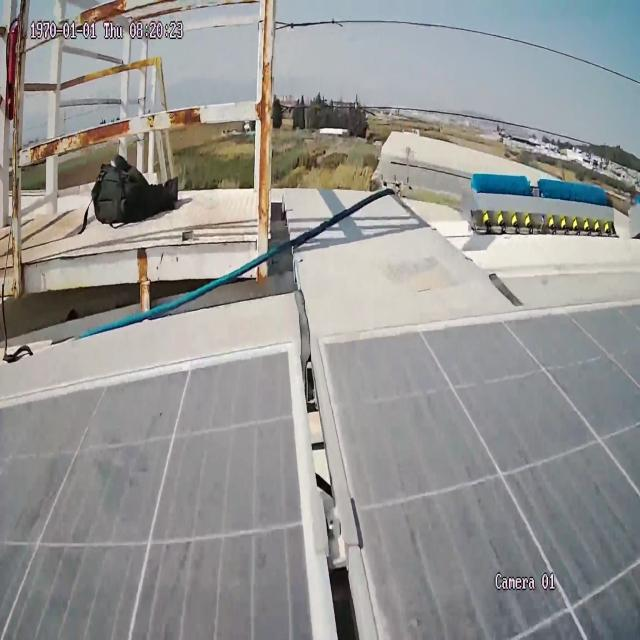interior panel: (271, 325, 408, 640)
